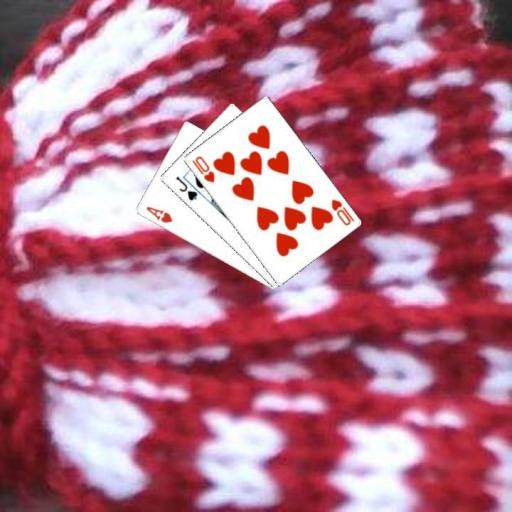10H: (328, 195, 355, 227), (189, 153, 216, 184)
AH: (142, 203, 174, 225)
JS: (172, 173, 199, 202)
